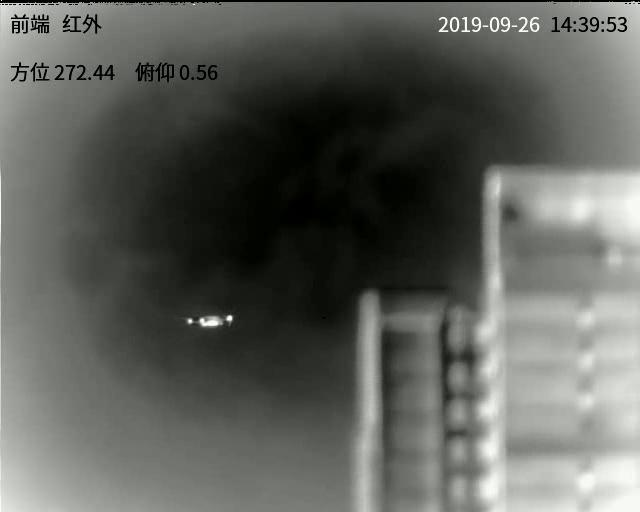DRONE: (185, 312, 234, 329)
